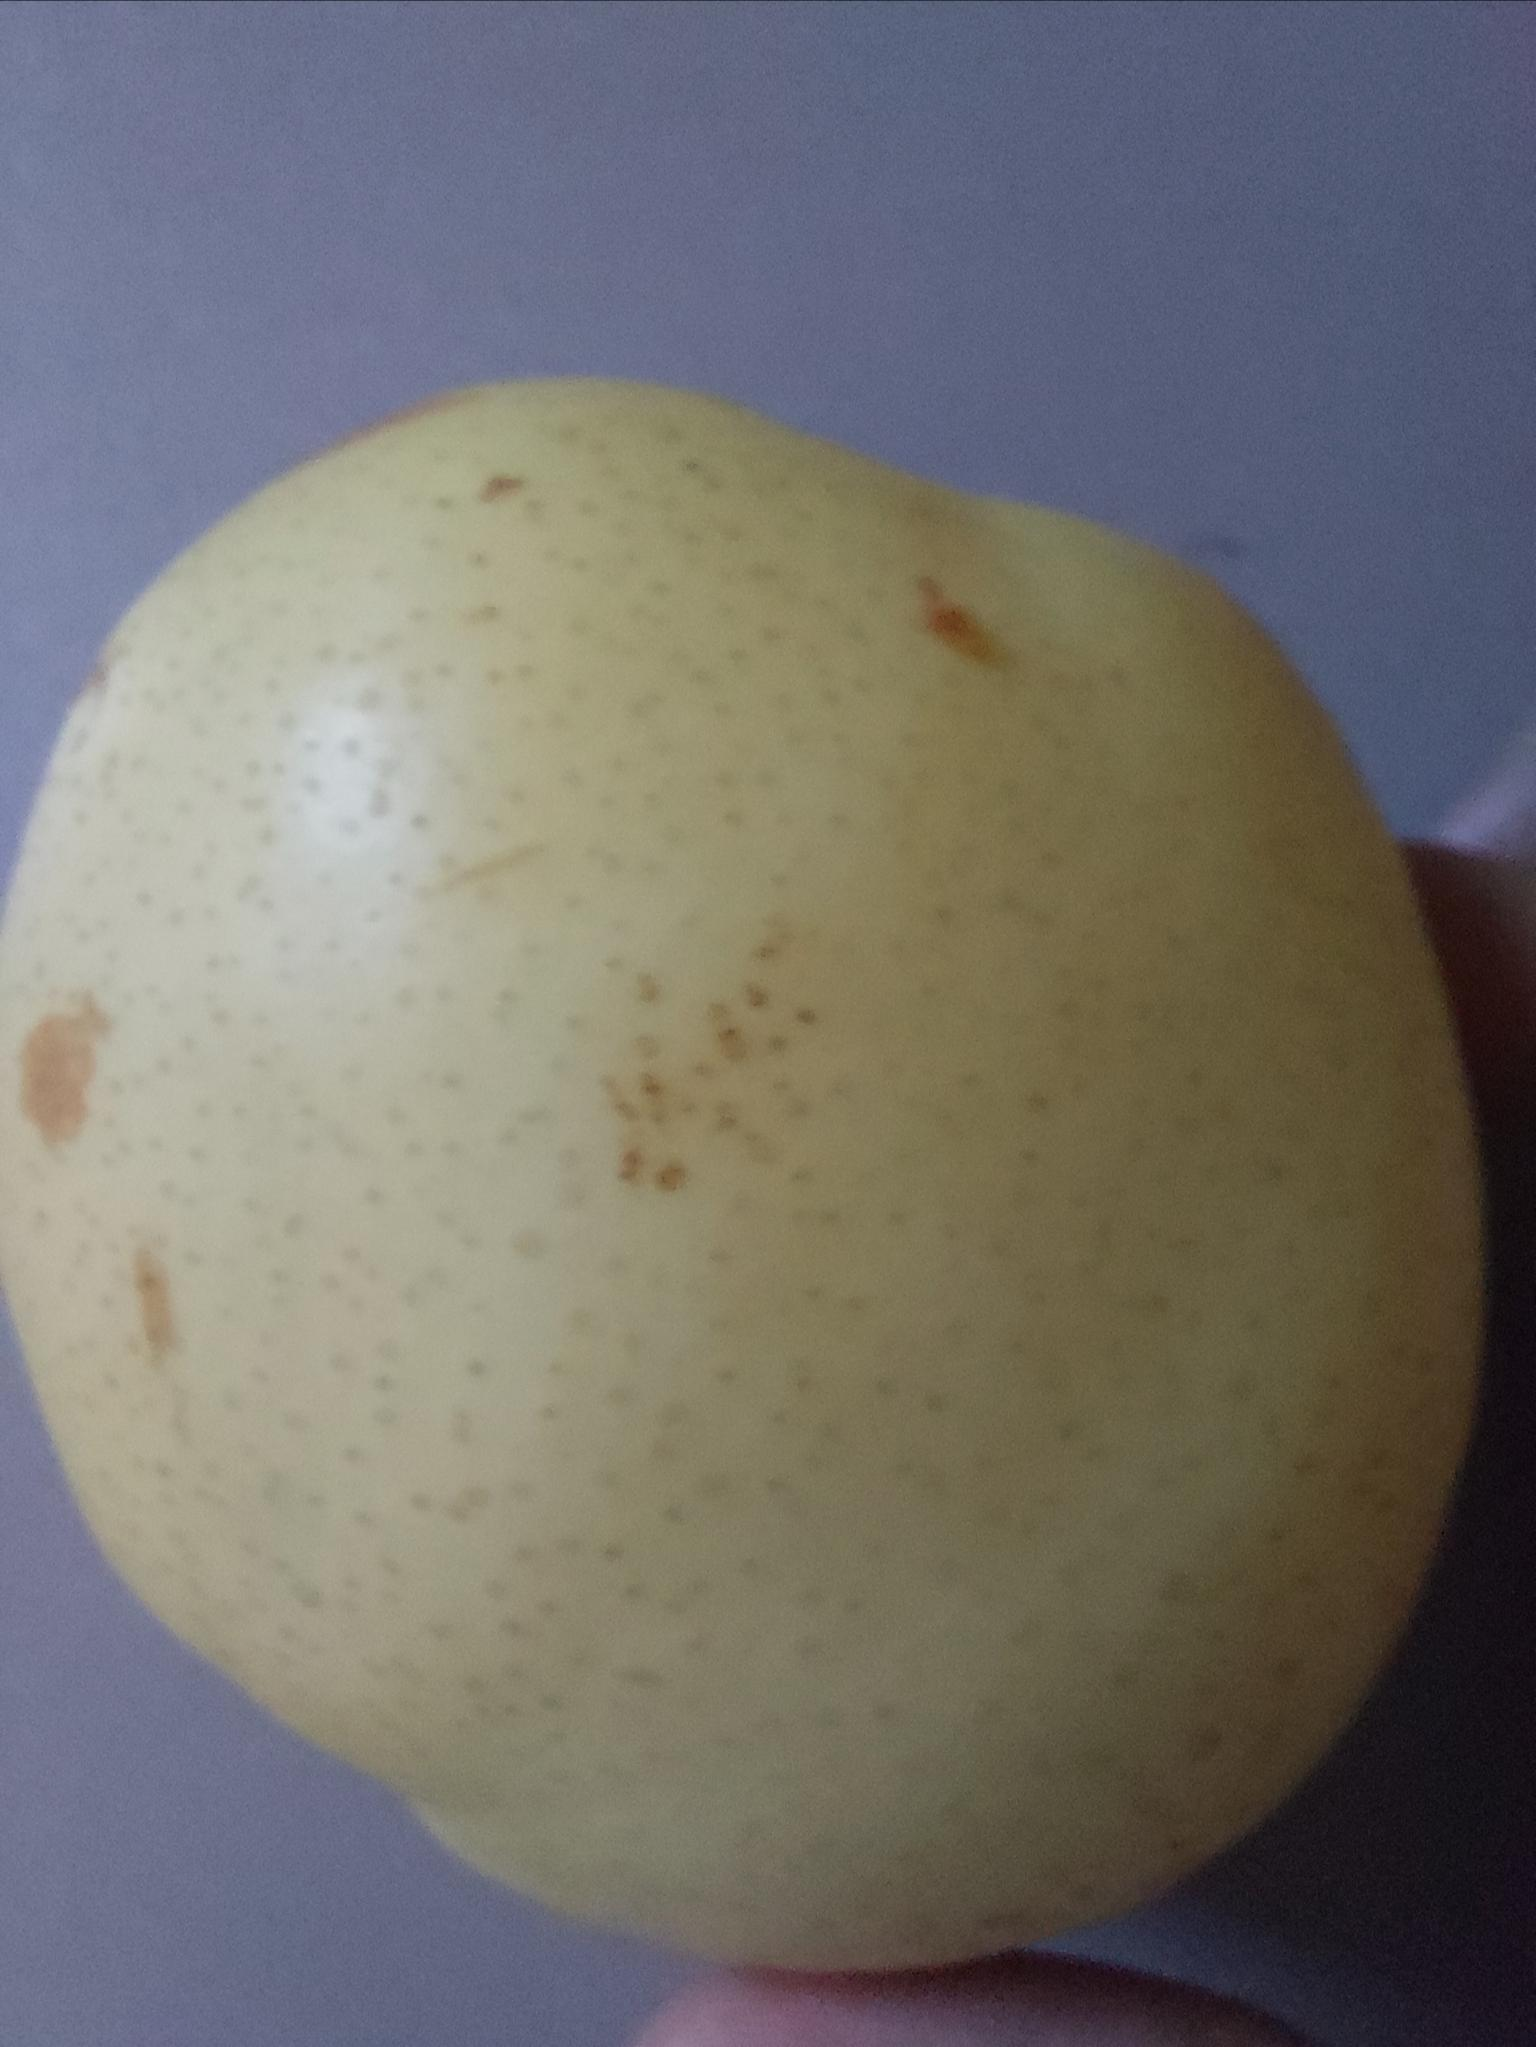Good Pear: (0, 382, 1501, 1976)
